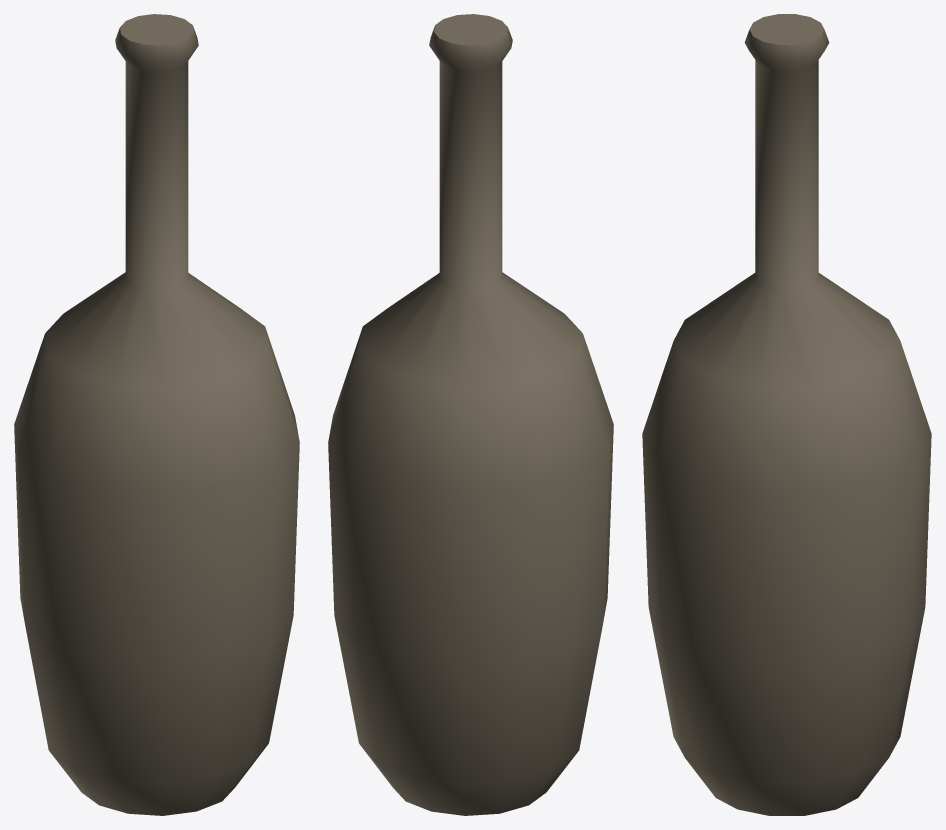
Rendered from SM_JarC.glb.
3 renders of one model, left to right at view 1: azimuth 30°, elevation 25°; view 2: azimuth 150°, elevation 25°; view 3: azimuth 270°, elevation 25°, orthographic.
Parts seen in each view (by area): view 1: SM_JarC; view 2: SM_JarC; view 3: SM_JarC.
Part boxes in pixels (left/top/right/bottom): SM_JarC: left=14, top=14, right=299, bottom=815; SM_JarC: left=328, top=14, right=613, bottom=815; SM_JarC: left=642, top=14, right=931, bottom=815.
Size of the model in its own units: 0.373 by 1.1 by 0.3826.
